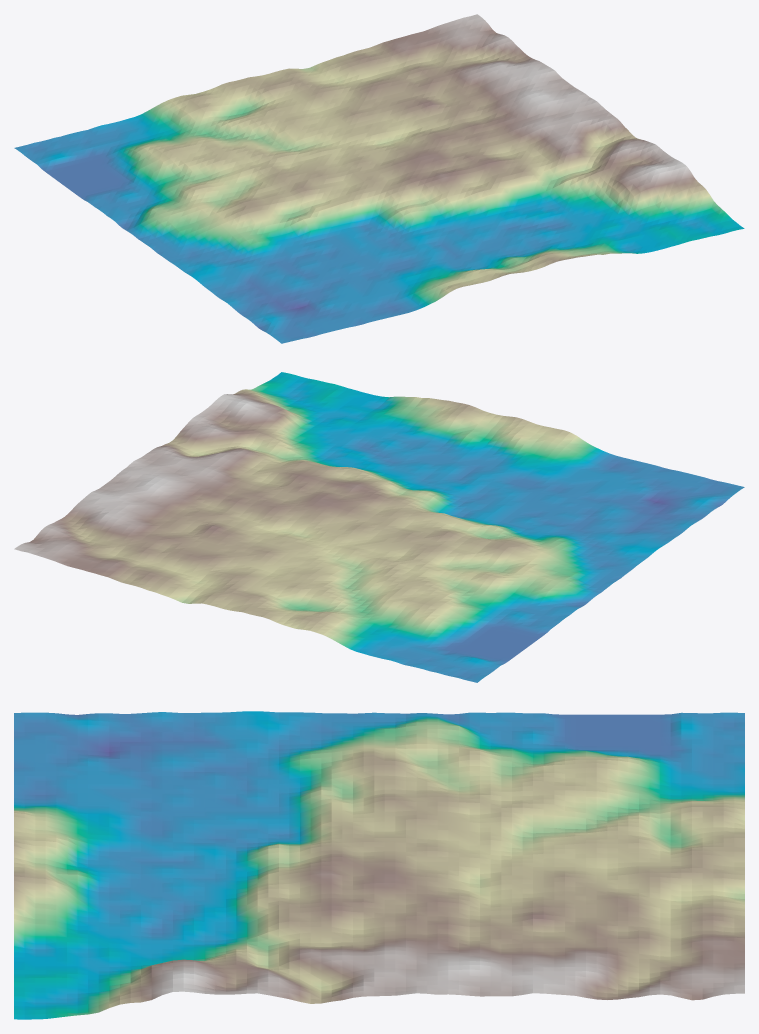
The model's file is 000958_terrain_only.glb.
The picture shows the model from 3 angles, top to bottom: view 1: azimuth 30°, elevation 25°; view 2: azimuth 150°, elevation 25°; view 3: azimuth 270°, elevation 25°; orthographic projection. The views are drawn at different scales.
Visible parts, largest first — view 1: terrain; view 2: terrain; view 3: terrain.
Part boxes in pixels (x1,y1,x2,y2): terrain: (14, 14, 744, 343); terrain: (14, 372, 744, 682); terrain: (14, 711, 744, 1019).
Size of the model in its own units: 0.0186 by 0.000955 by 0.0186.
